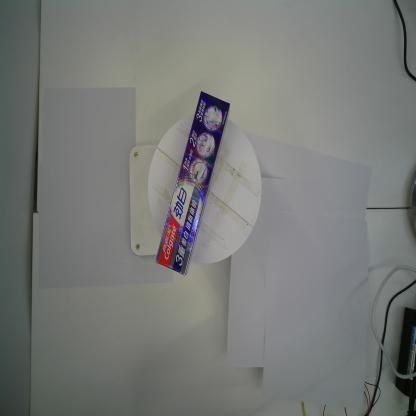Personal Hygiene: (154, 90, 231, 278)
